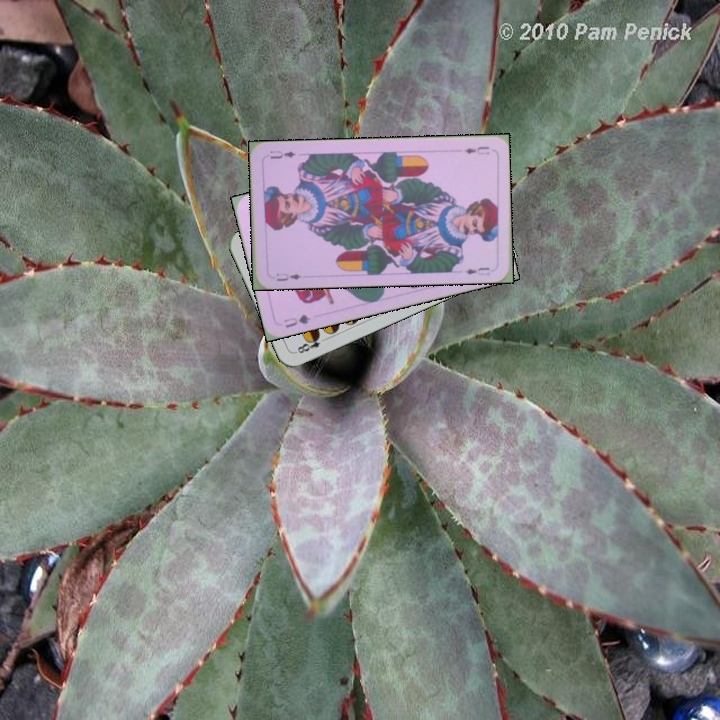E8: (291, 331, 330, 356)
EU: (460, 142, 492, 157), (272, 269, 303, 284)
GU: (280, 310, 313, 330)
